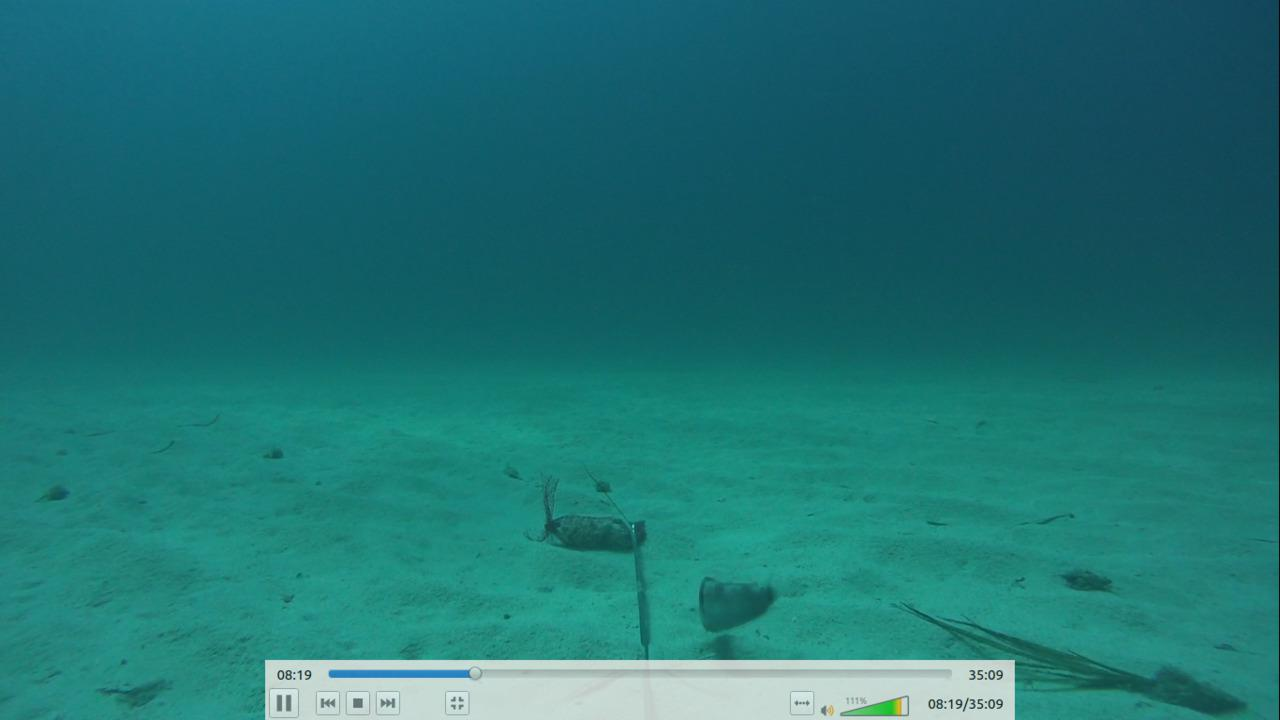raor: (691, 569, 780, 634)
